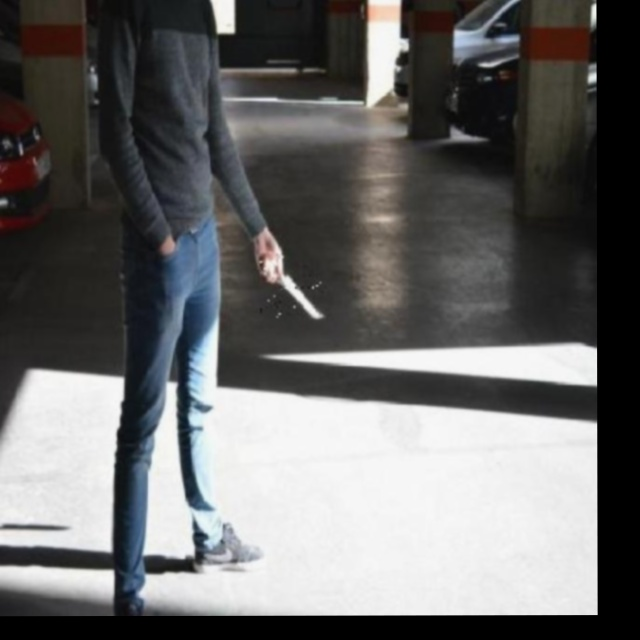Sharp-Object: (261, 254, 325, 319)
